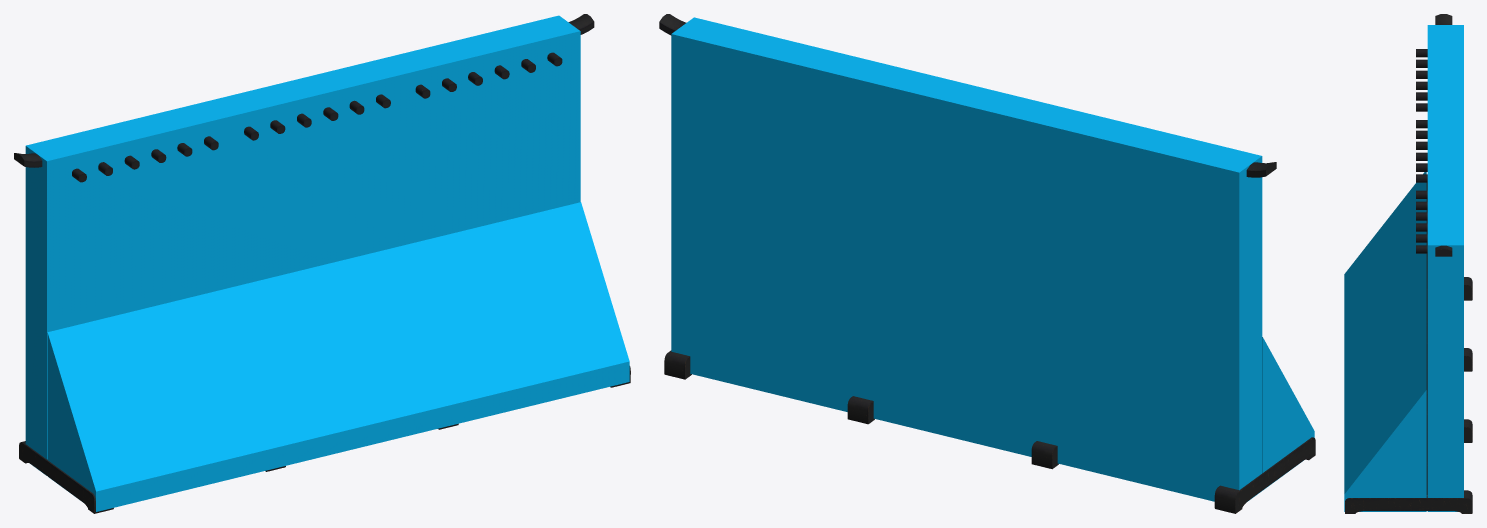
Rendered from JWC_BowStand_A_01.fbx.
3 views of the same model, side by side, from view 1: azimuth 30°, elevation 25°; view 2: azimuth 150°, elevation 25°; view 3: azimuth 270°, elevation 25° (orthographic). The views are drawn at different scales.
Visible parts, largest first — view 1: C_JWC_BowStand_A_01_002, C_JWC_BowStand_A_01, JWC_BowStand_A_01; view 2: C_JWC_BowStand_A_01_002, JWC_BowStand_A_01, C_JWC_BowStand_A_01; view 3: C_JWC_BowStand_A_01, C_JWC_BowStand_A_01_002, JWC_BowStand_A_01.
Part boxes in pixels (box(x1,y1,x2,y2)): C_JWC_BowStand_A_01_002: box(25, 15, 580, 475); C_JWC_BowStand_A_01: box(47, 202, 629, 511); JWC_BowStand_A_01: box(14, 14, 630, 513); C_JWC_BowStand_A_01_002: box(671, 17, 1262, 501); JWC_BowStand_A_01: box(659, 14, 1315, 513); C_JWC_BowStand_A_01: box(1262, 337, 1314, 490); C_JWC_BowStand_A_01: box(1344, 172, 1426, 511); C_JWC_BowStand_A_01_002: box(1427, 25, 1463, 511); JWC_BowStand_A_01: box(1345, 14, 1472, 513).
Bounding box in the file's own units: 2.11 × 1.14 × 0.4859.
